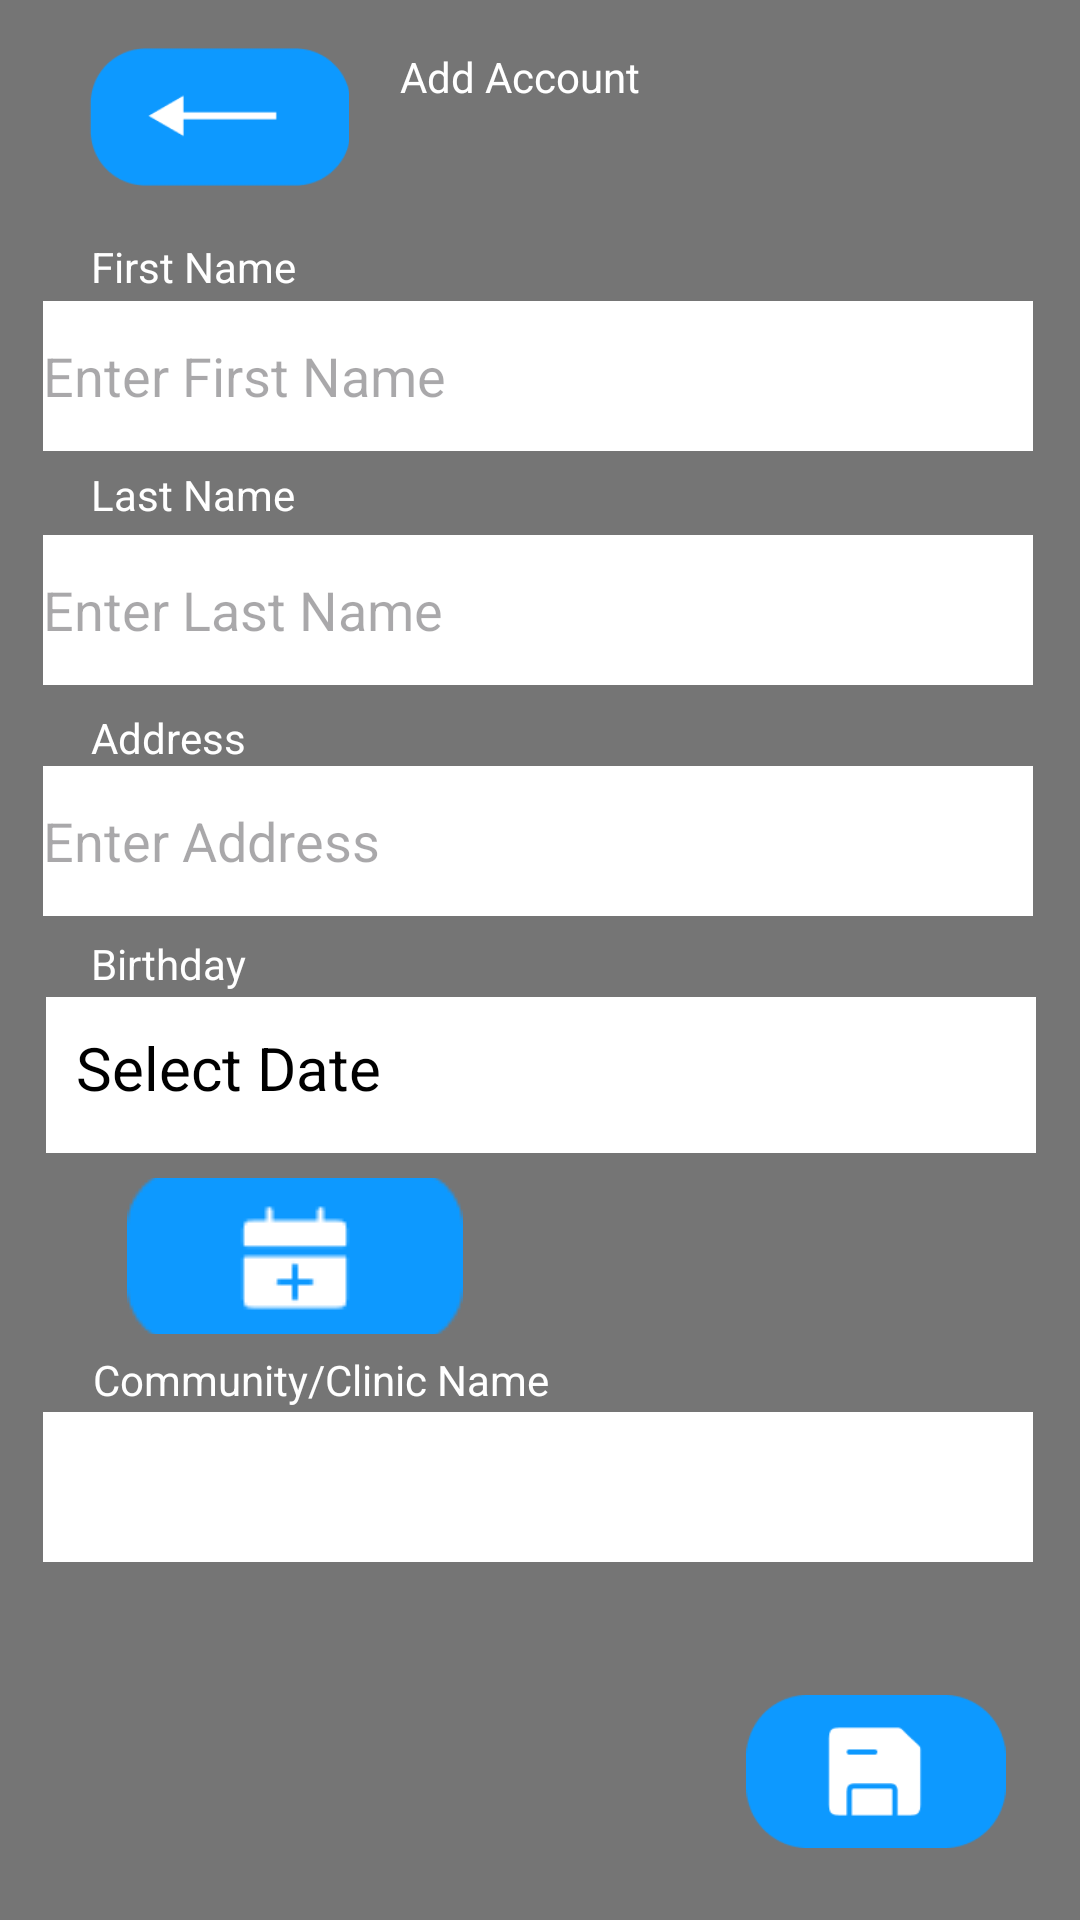

Point at icon controls on the screen. Image size 1080×1920, points as [x,y].
Back to previous page: [219,117]
Save patient data: [876,1771]
